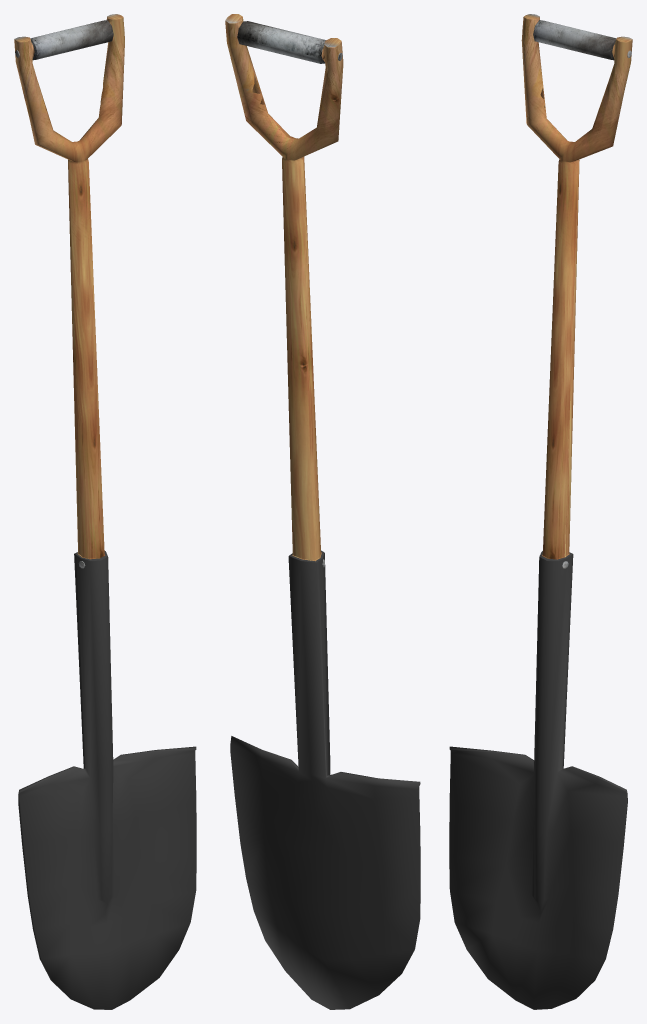
The model's file is shovel.fbx.
The picture shows the model from 3 angles, left to right: view 1: azimuth 30°, elevation 25°; view 2: azimuth 150°, elevation 25°; view 3: azimuth 330°, elevation 25°; orthographic projection. The views are drawn at different scales.
Parts seen in each view (by area): view 1: mainBody; view 2: mainBody; view 3: mainBody.
Boxes of the visible parts, box(x1,y1,x2,y2) form: mainBody: box(14, 14, 196, 1009); mainBody: box(225, 14, 420, 1009); mainBody: box(449, 14, 632, 1009).
Bounding box in the file's own units: 32.28 × 166 × 16.74.
Materials: 3 (2 with a texture image).
